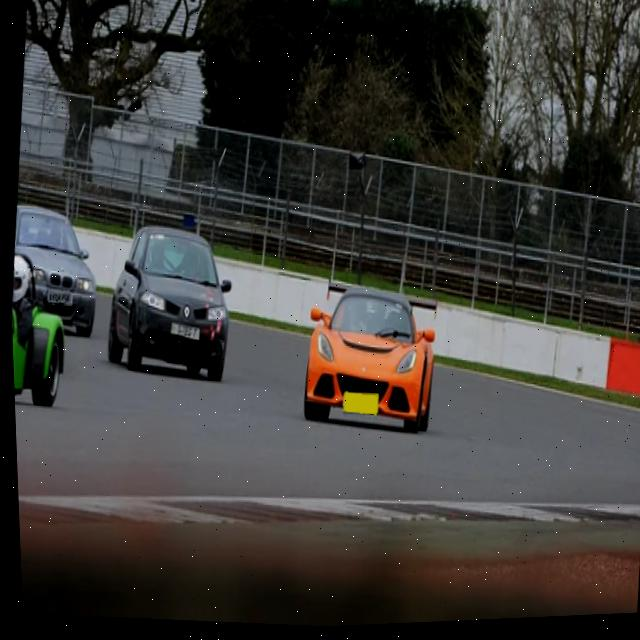LicensePlate: (340, 395, 375, 418), (168, 325, 195, 342), (44, 291, 69, 304)
